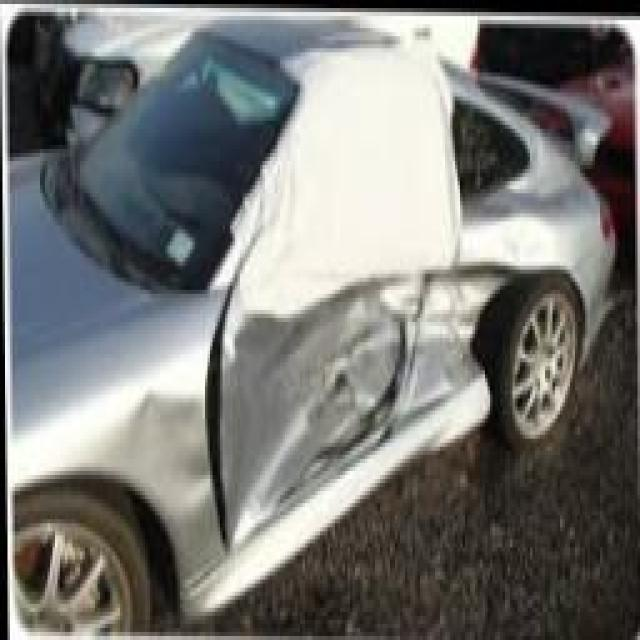Bumper: (581, 235, 620, 360)
Door: (195, 43, 462, 545)
Fender: (9, 283, 226, 588), (405, 144, 606, 418)
